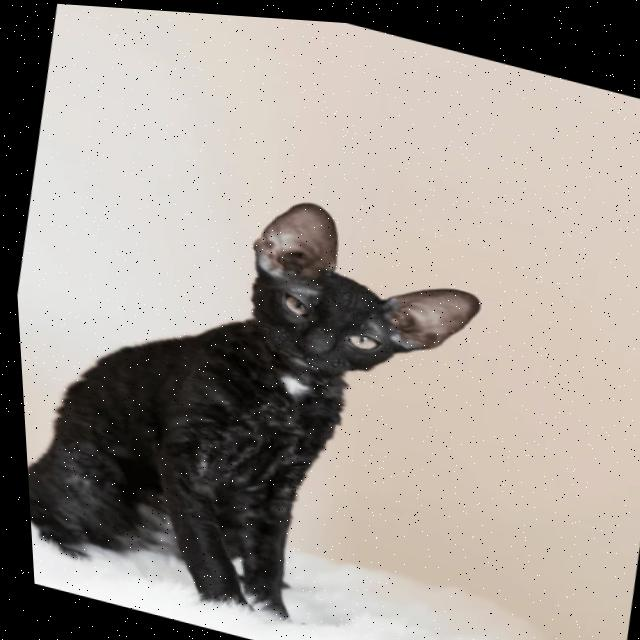Cornish Rex: (6, 128, 520, 640)
